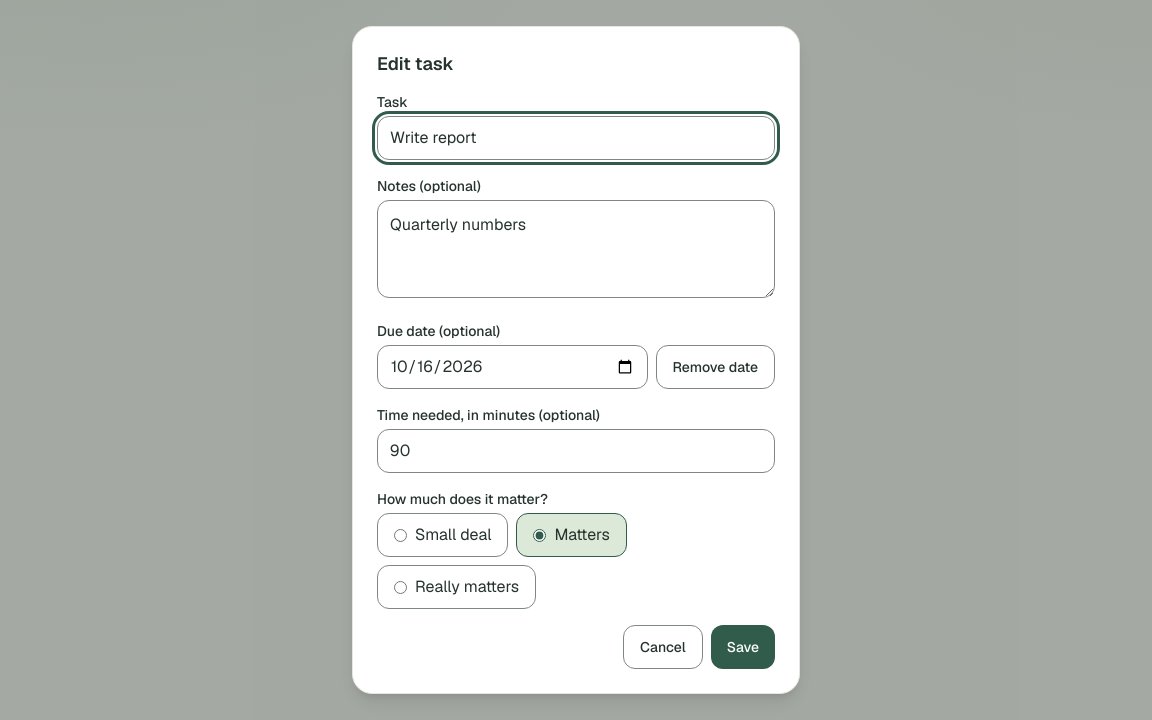
Scenario: EditTaskDialog › does not save a time of 3 minutes
Replace the text in the number field labelled "Time needed, in minutes (optional)" with "3". click: (576, 451)
box: [377, 429, 775, 473]
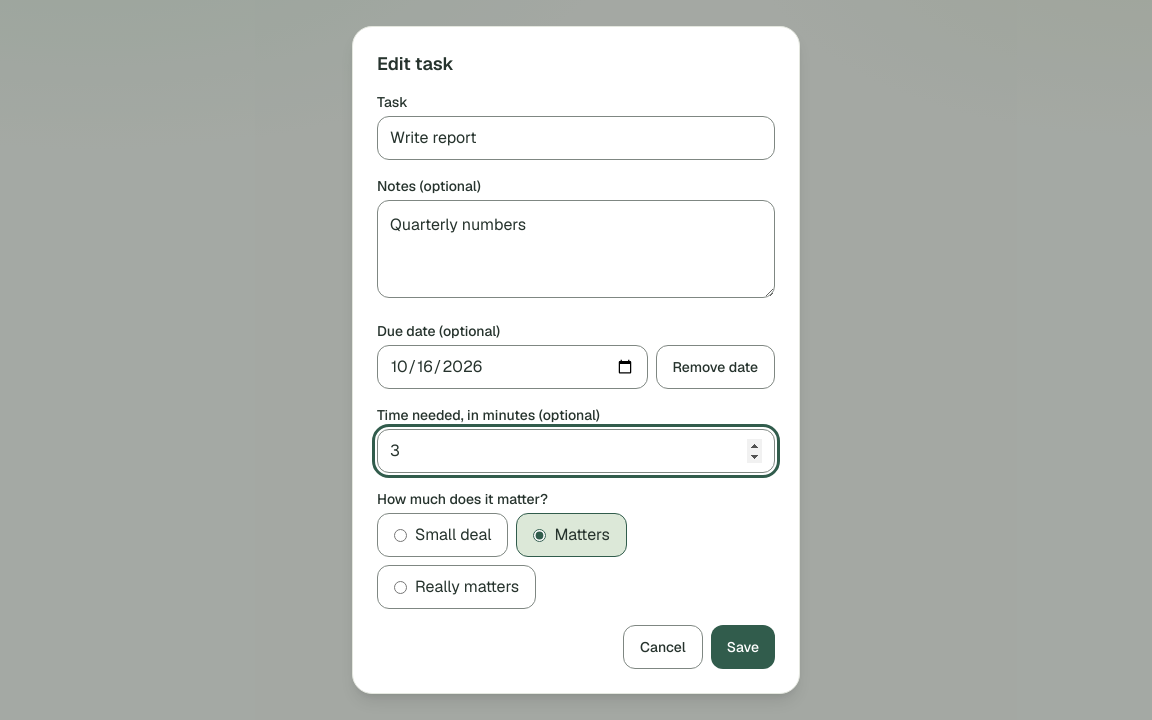
Click the button "Save". click: (743, 647)
box: [711, 625, 775, 669]
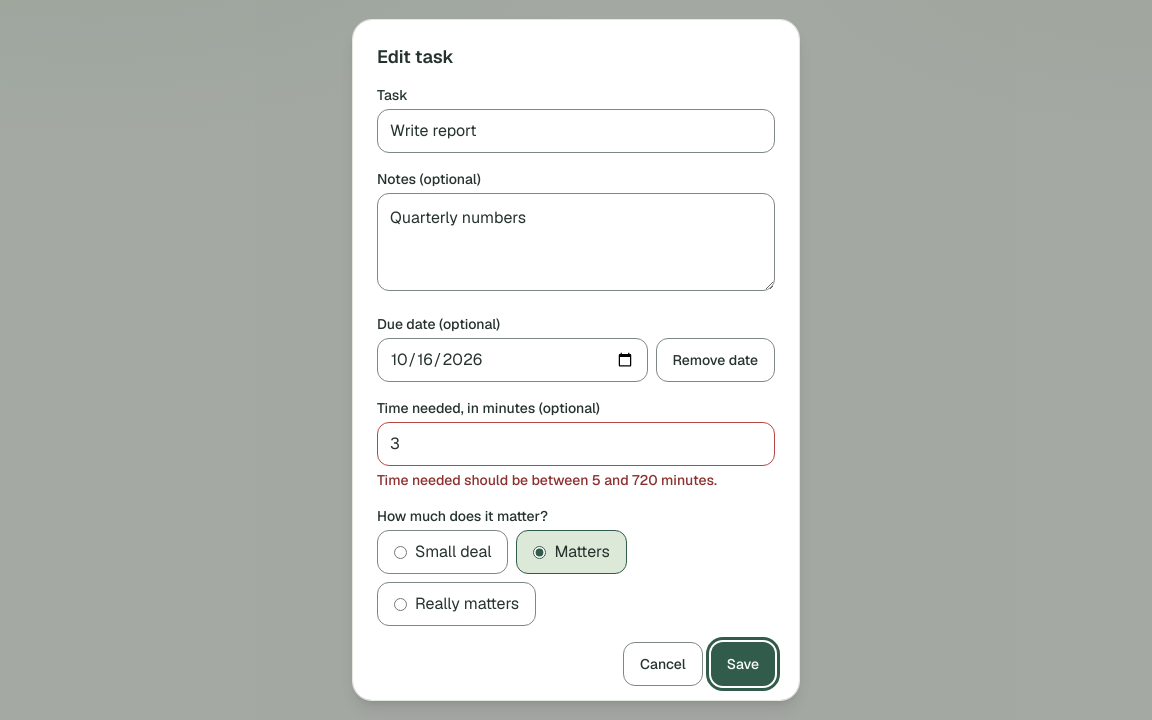
Expected: the message shows "between 5 and 720 minutes", [377, 471, 717, 489]
